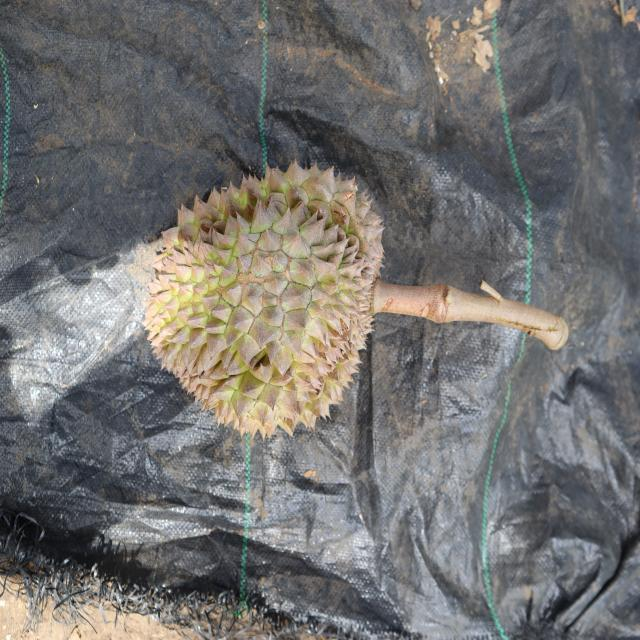mature: (140, 160, 388, 441)
